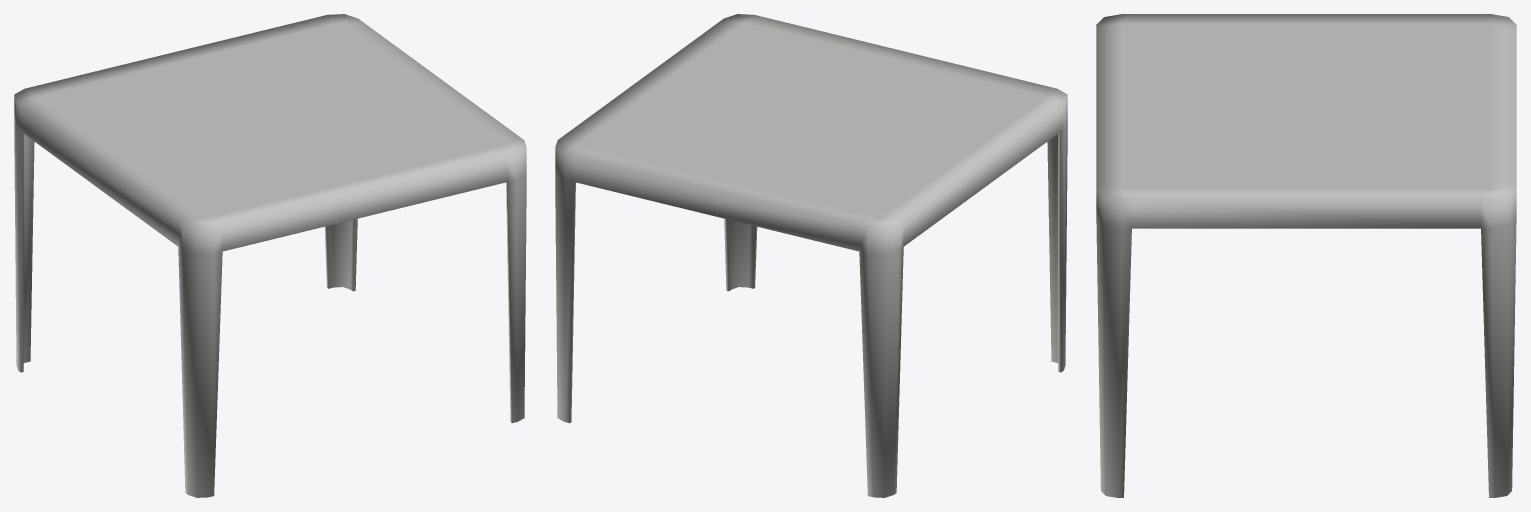
The model's file is MesaBlanca.fbx.
3 renders of one model, left to right at view 1: azimuth 30°, elevation 25°; view 2: azimuth 150°, elevation 25°; view 3: azimuth 270°, elevation 25°, orthographic. The views are drawn at different scales.
Visible parts, largest first — view 1: Cube.056; view 2: Cube.056; view 3: Cube.056.
Boxes of the visible parts, <box> form: Cube.056: <box>14,14,526,497</box>; Cube.056: <box>555,14,1067,497</box>; Cube.056: <box>1096,14,1516,497</box>.
Bounding box in the file's own units: 104 × 78.82 × 99.81.
